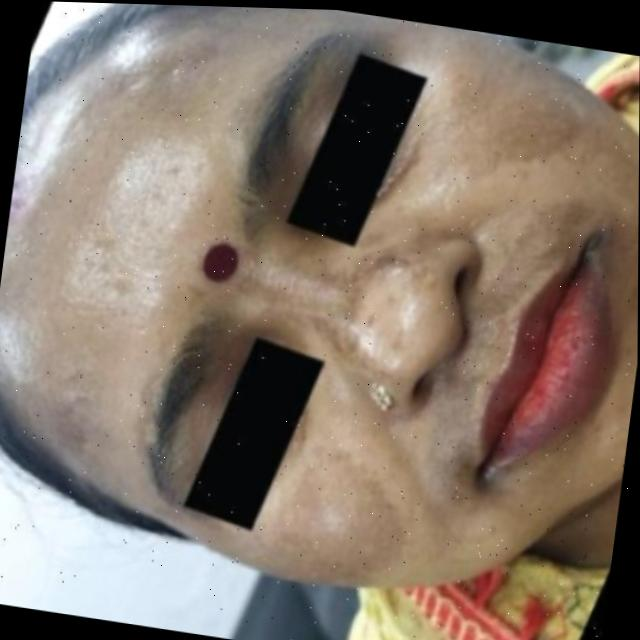Melasma: (0, 5, 230, 494), (245, 439, 423, 600), (425, 33, 601, 190)
